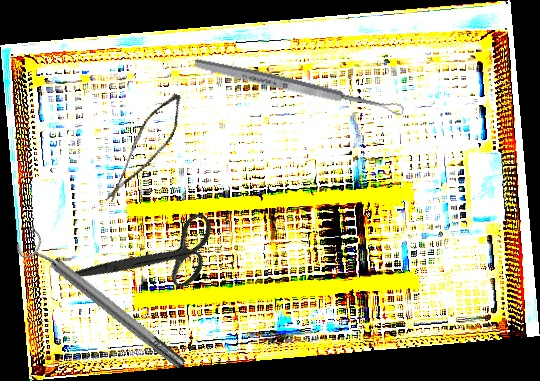Fixation Ring: (12, 225, 192, 379)
Iris Scissors: (64, 174, 232, 343)
Micro Scissor: (105, 84, 188, 215)
Surgical Spoon: (193, 56, 405, 118)
